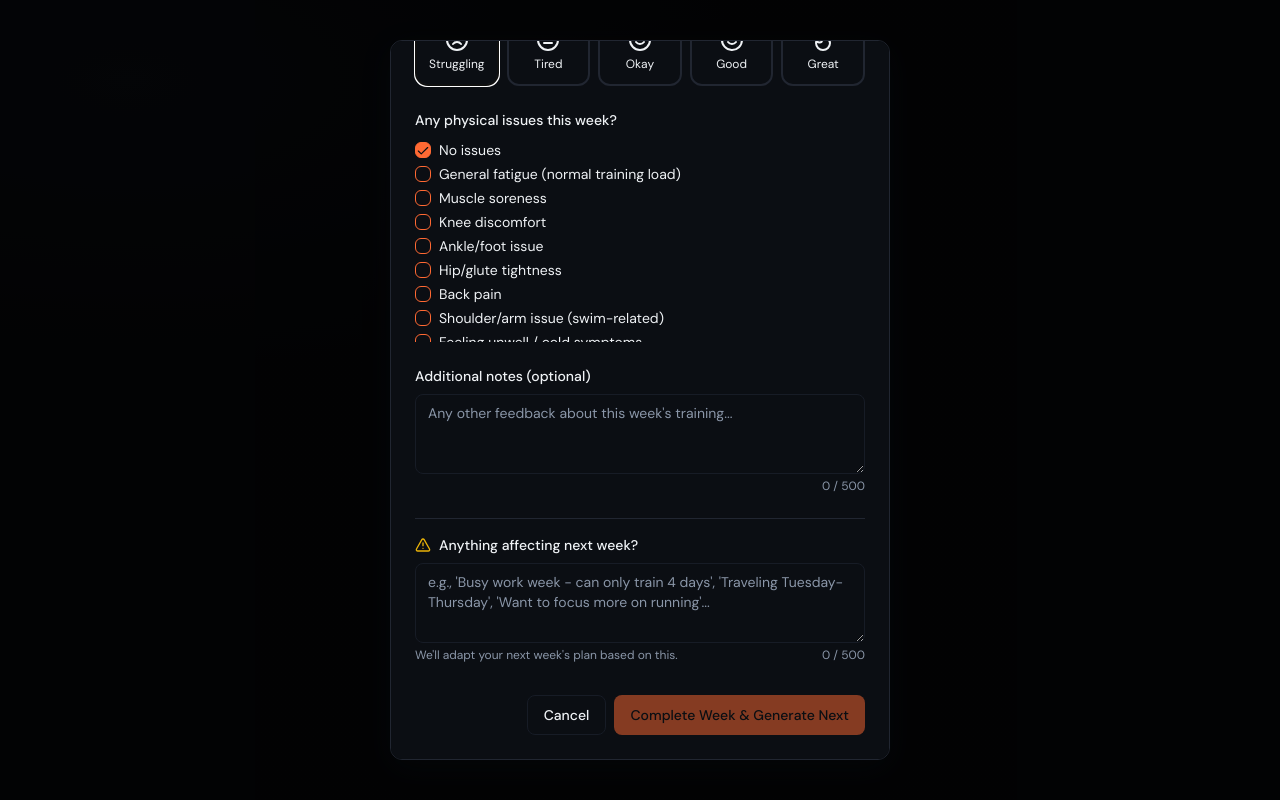
WeekReview — Phase 1.E.3 input cap + counter › shows a counter under the constraints field that updates on input
(page scrolled)
Replace the text in the text box labelled "Anything affecting next week?" with "travel mon-wed" at (640, 603), box [415, 563, 865, 643]
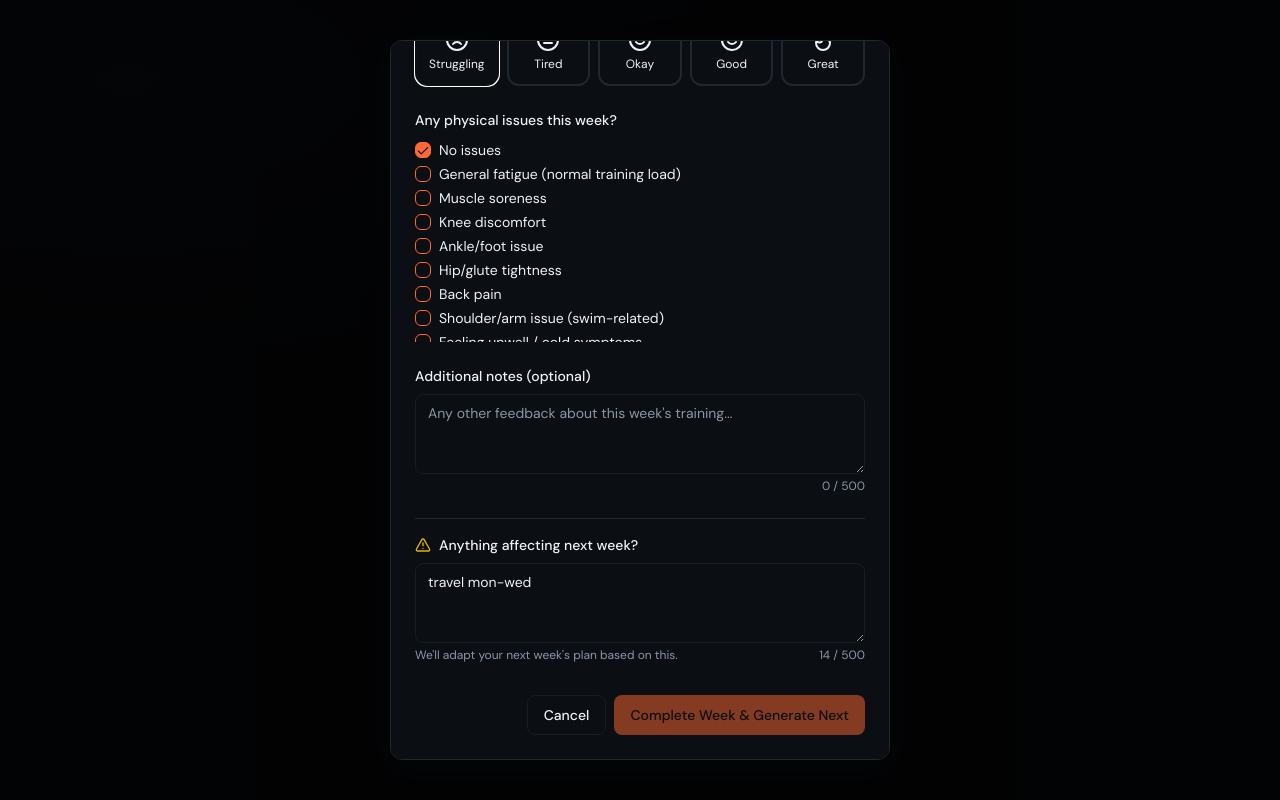
Check: the text "14 / 500" is shown, box [819, 647, 865, 663]
